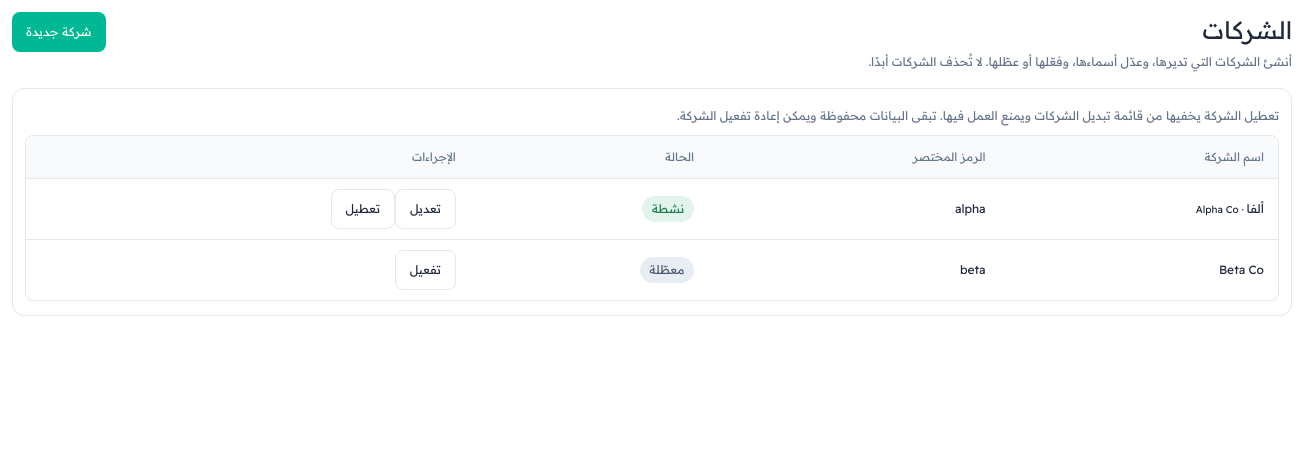
it: CompaniesManagement › shows a localized conflict error and supports Arabic
This screenshot has width=1304, height=453.
Click the button "تعطيل" at (363, 209), box [330,189,395,229]
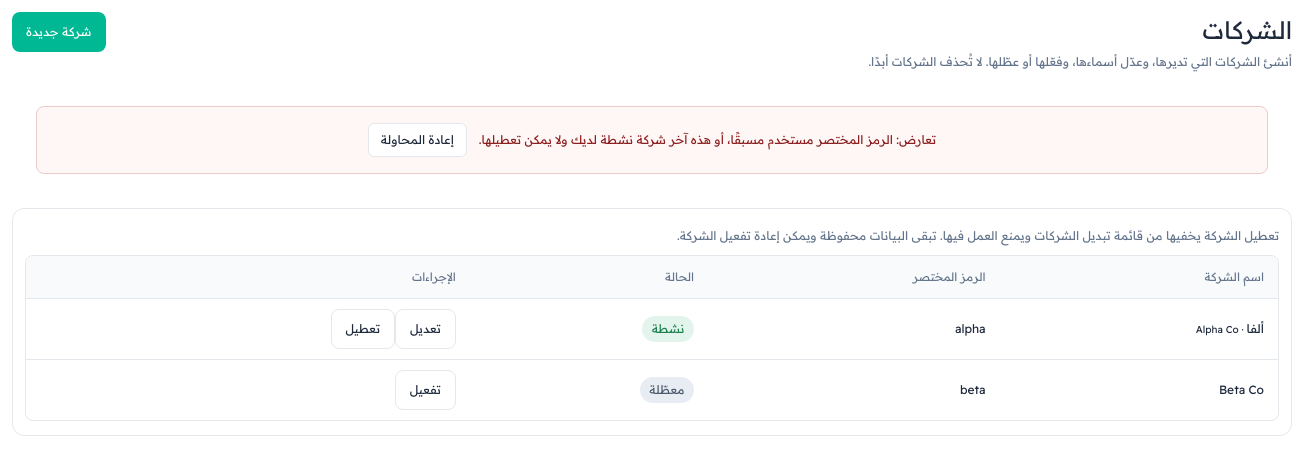
Now the text "تعارض" is shown, box [479,132,936,147]
